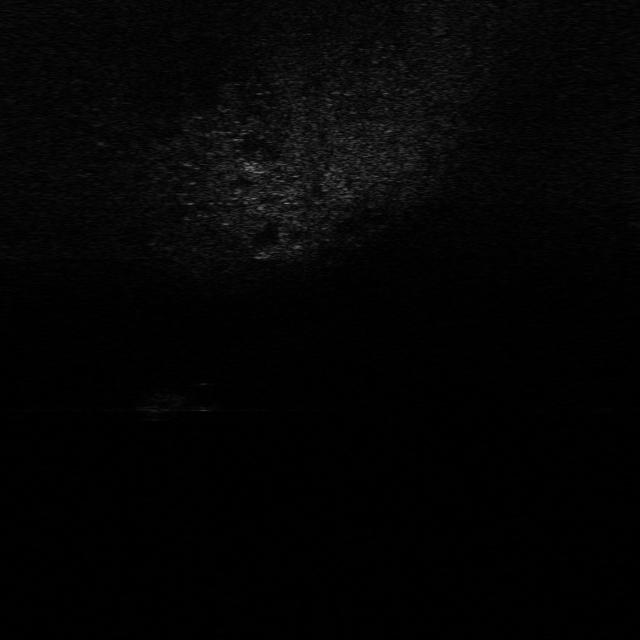ball: (188, 380, 224, 415)
circle cage: (130, 386, 186, 422)
